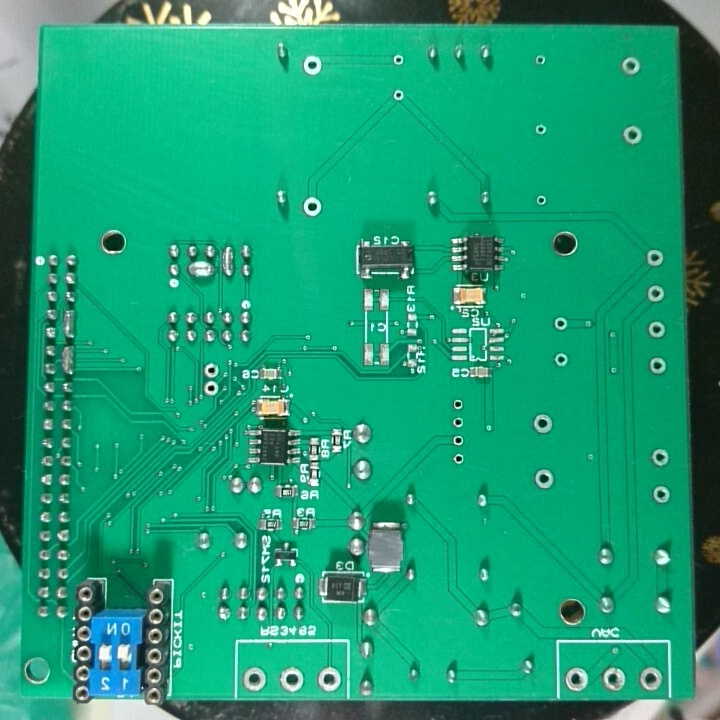F: (277, 661, 308, 695), (562, 663, 591, 695), (314, 664, 342, 695), (599, 664, 628, 693), (637, 663, 665, 693), (241, 663, 268, 694), (299, 195, 326, 222), (530, 412, 557, 438), (619, 122, 645, 148), (300, 52, 325, 77), (650, 481, 673, 507), (619, 53, 642, 78), (533, 466, 556, 491), (648, 446, 671, 469), (643, 247, 667, 269), (645, 318, 668, 340), (644, 283, 666, 305), (646, 355, 668, 377), (551, 349, 572, 371), (200, 379, 222, 399), (388, 86, 409, 105), (449, 431, 469, 450), (450, 450, 469, 470), (551, 315, 570, 334), (201, 361, 221, 379), (450, 395, 468, 414), (533, 191, 551, 209), (532, 121, 551, 138), (450, 413, 469, 429), (391, 50, 406, 69), (531, 52, 549, 67)
P: (59, 305, 80, 342), (185, 258, 217, 281), (59, 341, 78, 379), (219, 242, 235, 278)
